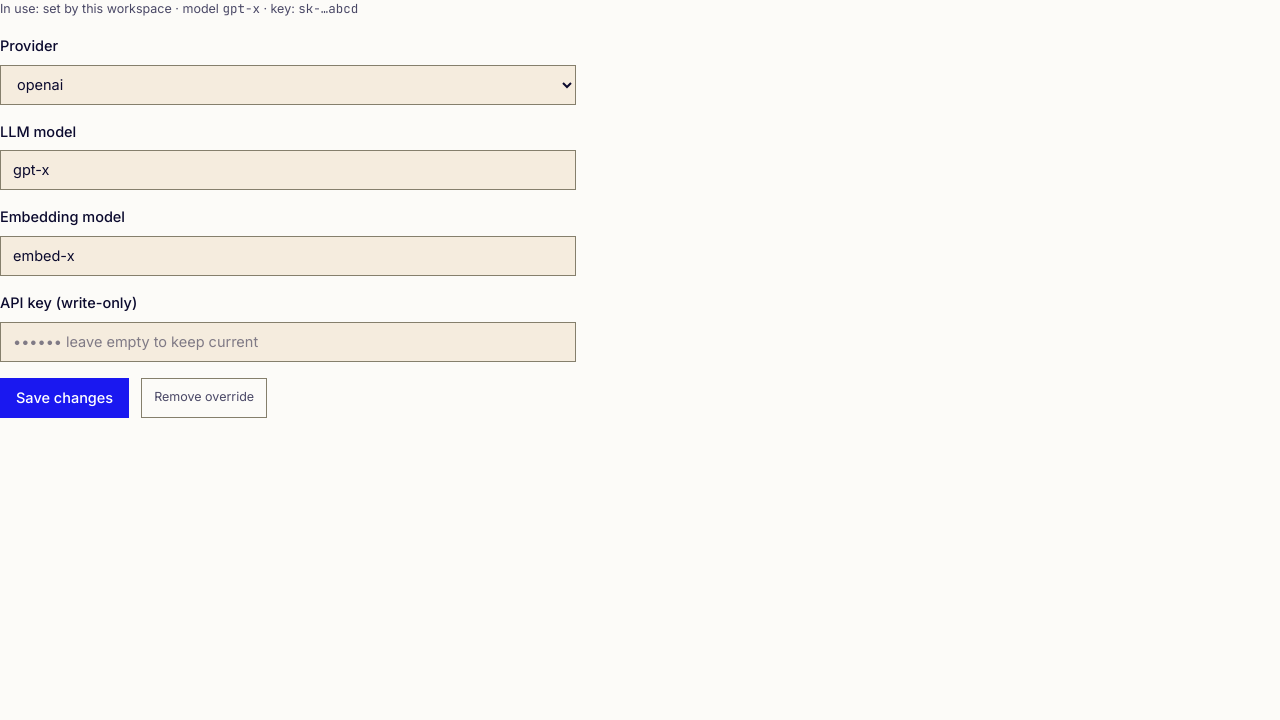
Test: a network failure while removing the override says so in an alert (AUD-006)
Step 1. Click the button "Remove override" → click(204, 398), box [141, 378, 267, 418]
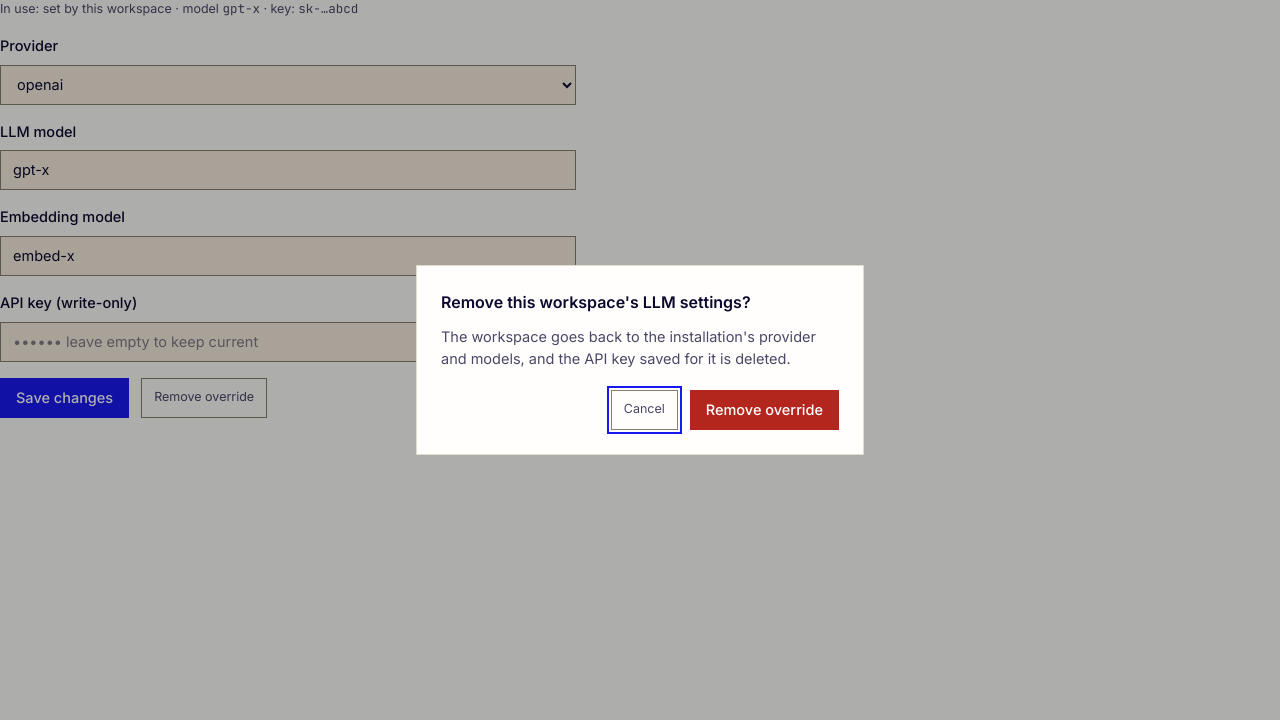
Step 2. Click the button "Remove override" → click(764, 410), box [690, 390, 839, 430]
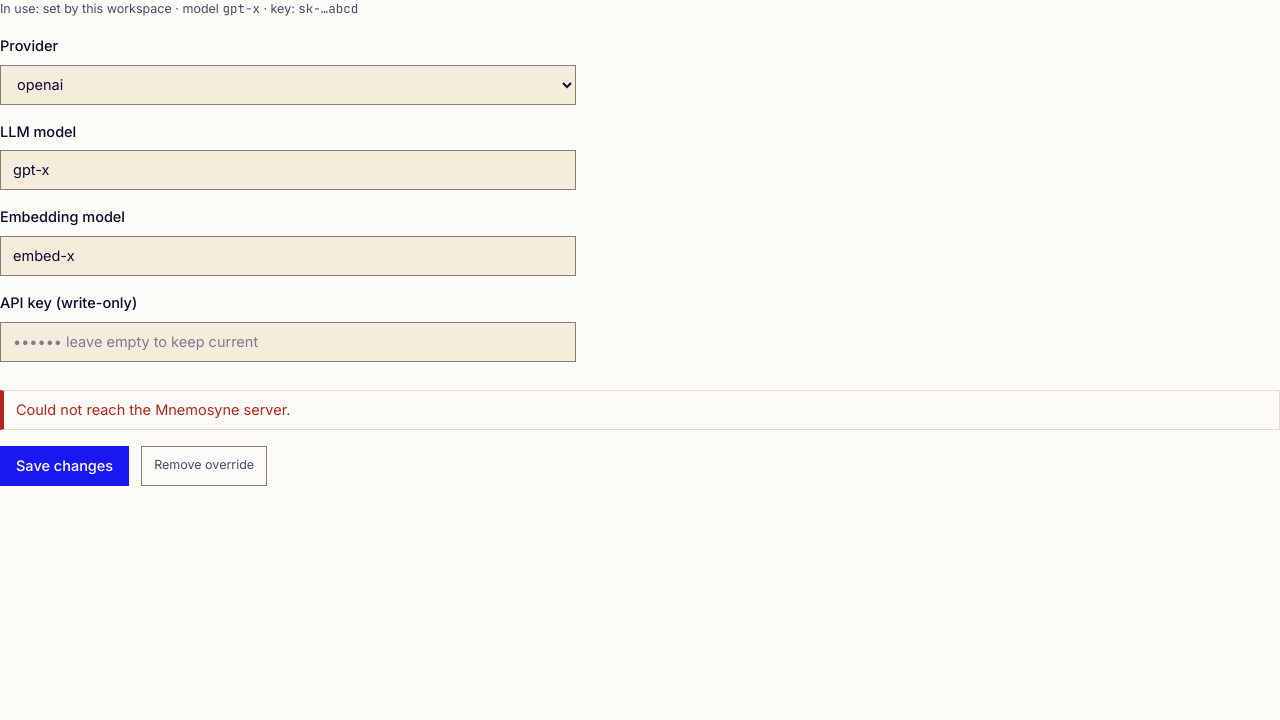
Result: the message reads "Could not reach the Mnemosyne server." at [16, 401, 290, 418]
Result: the dialog is gone
